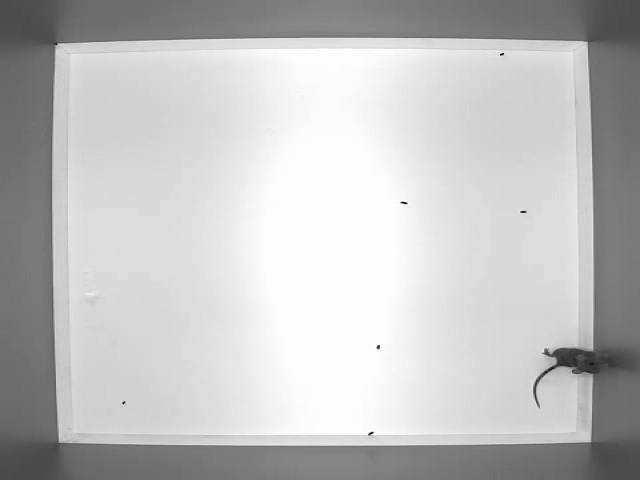Tikus: (532, 347, 604, 409)
